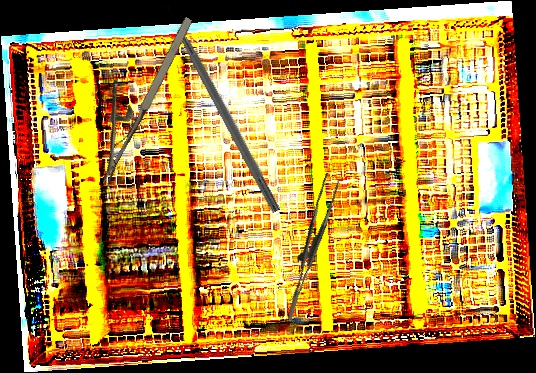Hook Surgical: (162, 3, 284, 214)
Needle Holder: (67, 1, 199, 187)
Tissue Forceps: (263, 172, 355, 321)
